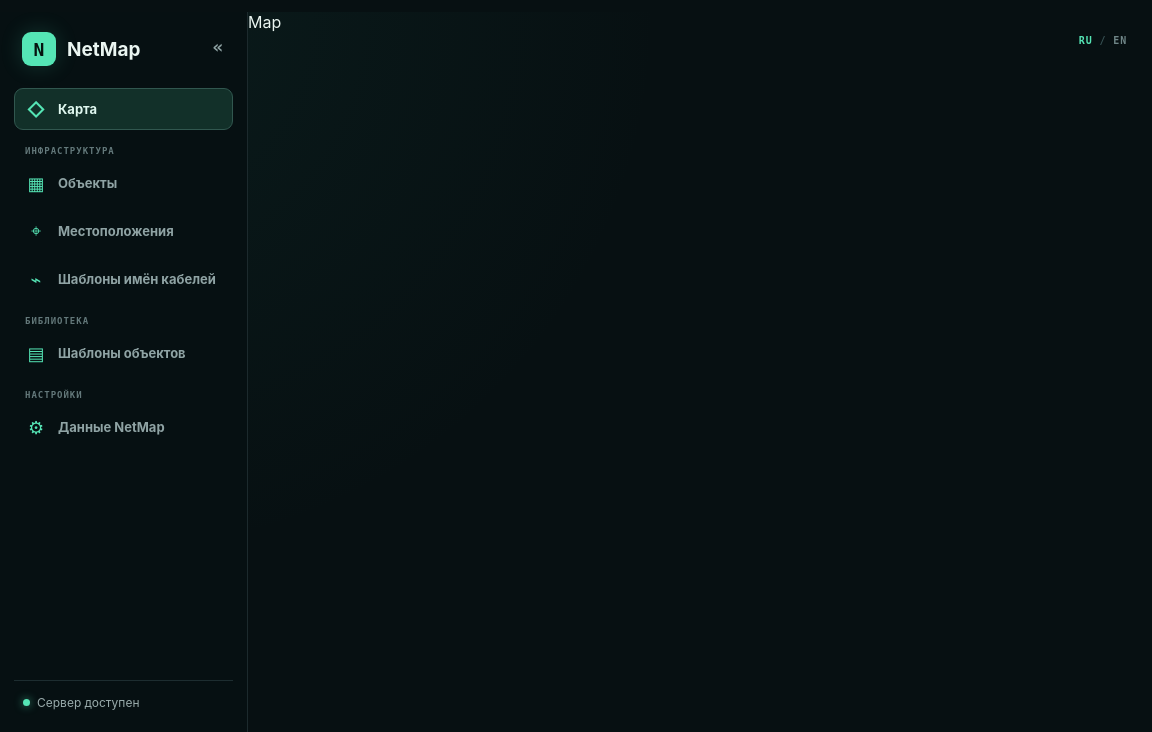
Test: AppShell locale switch › uses an accessible RU / EN text toggle that switches at runtime and persists the choice
Expected: the element named "Язык" is shown, [1078,32,1128,49]
What coordinates should you click on to do the following:
click the button with aria-label "Язык: English"
I would click on:
 (1120, 40)
Its box is [1112,32,1128,49].
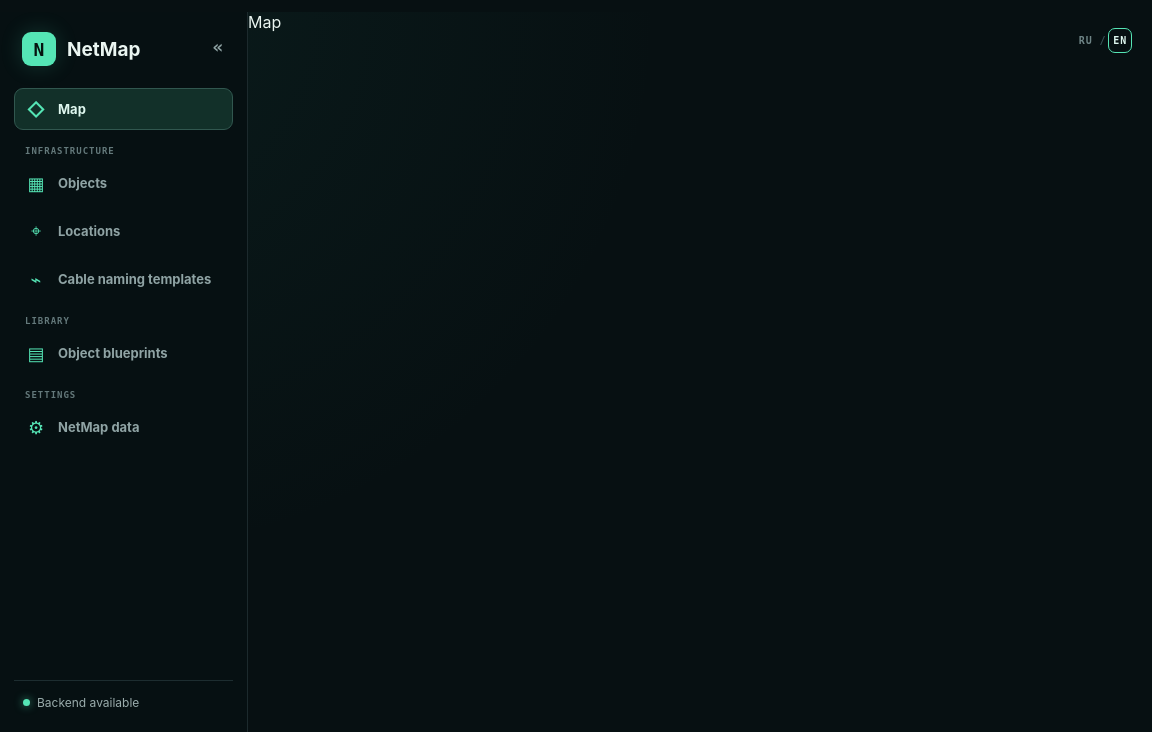
Expected: the element named "Language" is shown, [1078,32,1128,49]
